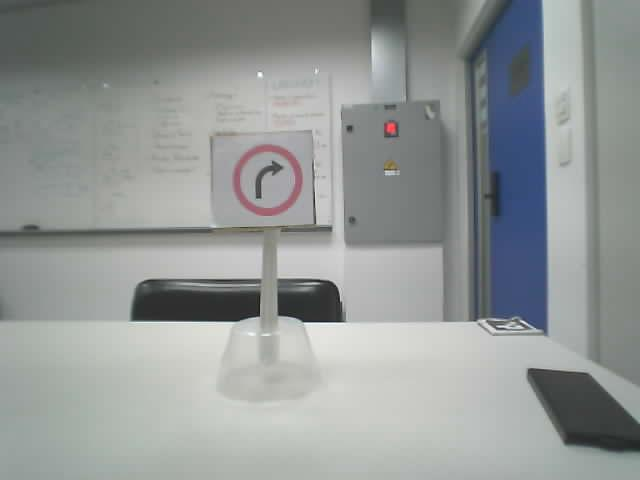R-25b_direita: (231, 143, 303, 216)
